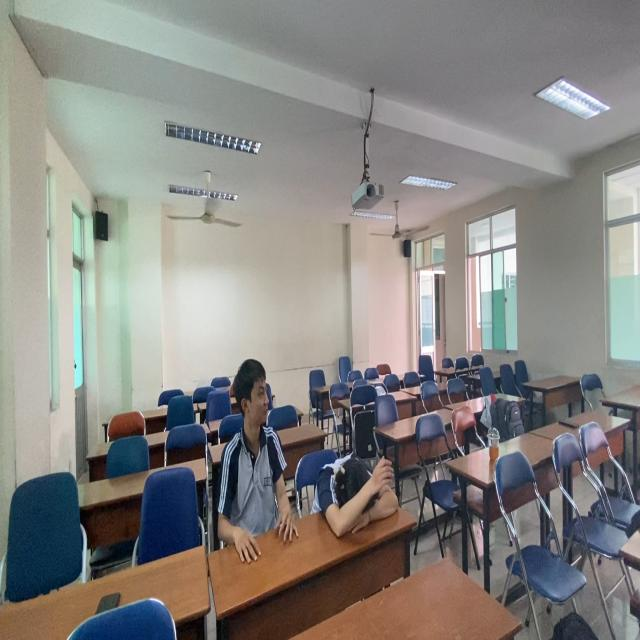sleep: (310, 452, 404, 540)
